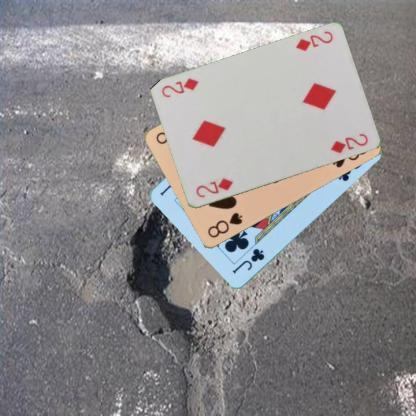2d: (193, 176, 234, 200), (293, 29, 334, 52)
8s: (204, 210, 244, 240)
Jc: (230, 246, 266, 276)
